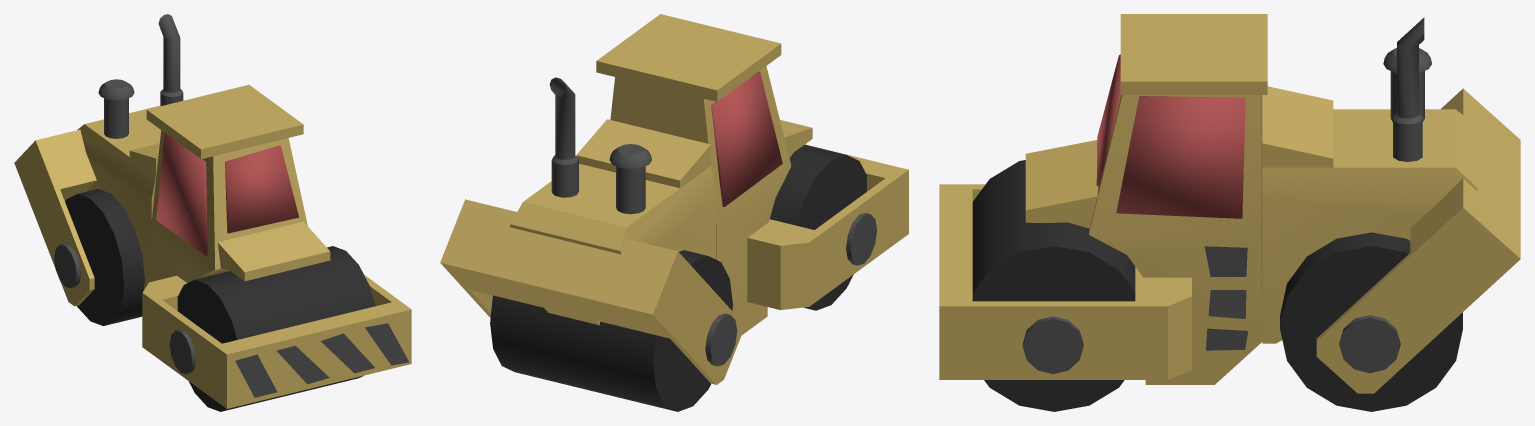
The model's file is Katok.fbx.
The picture shows the model from 3 angles, left to right: view 1: azimuth 30°, elevation 25°; view 2: azimuth 150°, elevation 25°; view 3: azimuth 270°, elevation 25°; orthographic projection. The views are drawn at different scales.
Parts seen in each view (by area): view 1: Katok, Stroke, Circle, Circle_2; view 2: Katok, Circle, Circle_2; view 3: Katok, Stairs, Circle, Circle_2.
Part boxes in pixels (left/top/right/bottom): Katok: left=14, top=14, right=411, bottom=411; Stroke: left=235, top=323, right=408, bottom=397; Circle: left=54, top=243, right=81, bottom=288; Circle_2: left=169, top=329, right=195, bottom=374; Katok: left=440, top=14, right=908, bottom=411; Circle: left=705, top=313, right=737, bottom=366; Circle_2: left=846, top=213, right=876, bottom=265; Katok: left=939, top=14, right=1520, bottom=411; Stairs: left=1204, top=246, right=1248, bottom=350; Circle: left=1339, top=315, right=1400, bottom=373; Circle_2: left=1022, top=316, right=1083, bottom=373.
Size of the model in its own units: 246 by 329 by 477.
